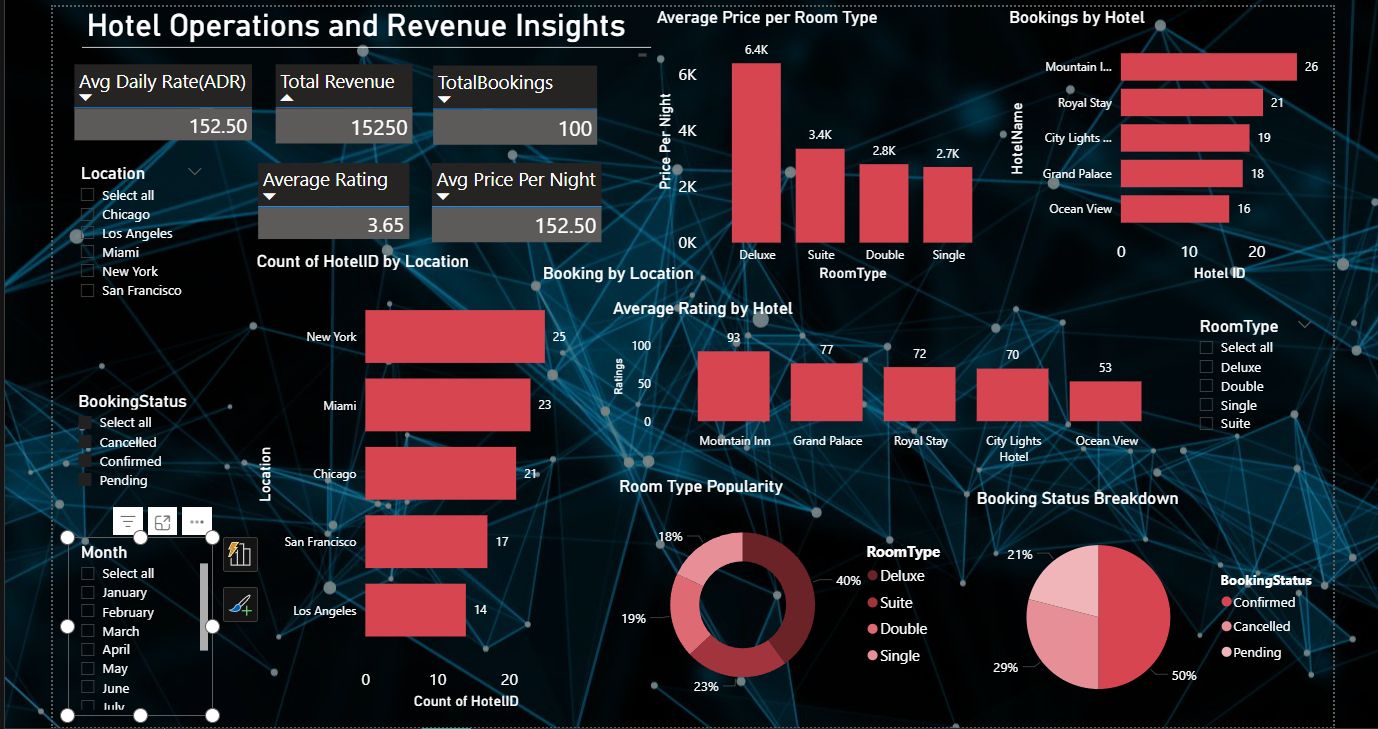

Layout of this report page (visuals, bound fields, positions):
{"tool":"powerbi","page":{"name":"Hotel Performance Dashboard","canvas":[1280,720],"ordinal":0},"visuals":[{"type":"tableEx","fields":{"Values":["hotel_data(1).Avg Daily Rate(ADR)"]},"box":[15.3,52.9,215.7,111.3],"z":0},{"type":"tableEx","fields":{"Values":["hotel_data(1).Total Revenue"]},"box":[215.7,52.9,157.2,98.8],"z":1000},{"type":"tableEx","fields":{"Values":["hotel_data(1).TotalBookings"]},"box":[373.2,53.5,181.6,98.3],"z":2000},{"type":"textbox","title":"Hotel Operations and Revenue Insights","box":[28.6,0,569.7,53.5],"z":3000},{"type":"slicer","fields":{"Values":["hotel_data(1).RoomType"]},"box":[1133.2,303.5,138.1,185.3],"z":4000},{"type":"slicer","fields":{"Values":["hotel_data(1).BookingStatus"]},"box":[12.5,378.4,148.9,151.7],"z":5000},{"type":"slicer","fields":{"Values":["hotel_data(1).CheckInDate.Variation.Date Hierarchy.Month"]},"box":[15.3,530.1,144.7,178.1],"z":6000},{"type":"tableEx","fields":{"Values":["hotel_data(1).Avg Price Per Night"]},"box":[372.9,151.7,211.5,91.8],"z":7000},{"type":"tableEx","fields":{"Values":["hotel_data(1).Average Rating"]},"box":[199,151.7,173.9,111.3],"z":8000},{"type":"clusteredBarChart","title":"Bookings by Hotel","fields":{"Category":["hotel_data(1).HotelName"],"Y":["CountNonNull(hotel_data(1).HotelID)"]},"box":[951.6,0,328.4,279.9],"z":9000},{"type":"barChart","title":"Booking by Location","fields":{"Category":["hotel_data(1).Location"]},"box":[485.1,256.3,199,464],"z":10000},{"type":"donutChart","title":"Room Type Popularity","fields":{"Category":["hotel_data(1).RoomType"],"Y":["CountNonNull(hotel_data(1).HotelID)"]},"box":[560.7,468.9,349.2,239.3],"z":11000},{"type":"clusteredColumnChart","title":"Average Price per Room Type","fields":{"Category":["hotel_data(1).RoomType"],"Y":["Sum(hotel_data(1).PricePerNight)"]},"box":[598.3,0,353.4,279.7],"z":12000},{"type":"pieChart","title":"Booking Status Breakdown","fields":{"Category":["hotel_data(1).BookingStatus"],"Y":["CountNonNull(hotel_data(1).HotelID)"]},"box":[919.3,481.4,360.7,238.8],"z":13000},{"type":"columnChart","title":"Average Rating by Hotel","fields":{"Category":["hotel_data(1).HotelName"],"Y":["Sum(hotel_data(1).Rating)"]},"box":[554.8,291.1,578.4,174.2],"z":14000},{"type":"slicer","fields":{"Values":["hotel_data(1).Location"]},"box":[14.9,151.8,146.8,209],"z":15000},{"type":"barChart","fields":{"Category":["hotel_data(1).Location"],"Y":["CountNonNull(hotel_data(1).HotelID)"]},"box":[199,243.8,329.6,464],"z":15001}]}

Visuals, with their boxes on the page's 1280x720 design canvas (x1, y1, x2, y2). These are canvas units, not pixel positions in the 1378x729 screenshot, which may show the page scaled, cropped or inside an application window:
tableEx - hotel_data(1).Avg Daily Rate(ADR): {"left": 15, "top": 53, "right": 231, "bottom": 164}
tableEx - hotel_data(1).Total Revenue: {"left": 216, "top": 53, "right": 373, "bottom": 152}
tableEx - hotel_data(1).TotalBookings: {"left": 373, "top": 54, "right": 555, "bottom": 152}
"Hotel Operations and Revenue Insights" textbox: {"left": 29, "top": 0, "right": 598, "bottom": 54}
slicer - hotel_data(1).RoomType: {"left": 1133, "top": 304, "right": 1271, "bottom": 489}
slicer - hotel_data(1).BookingStatus: {"left": 12, "top": 378, "right": 161, "bottom": 530}
slicer - hotel_data(1).CheckInDate.Variation.Date Hierarchy.Month: {"left": 15, "top": 530, "right": 160, "bottom": 708}
tableEx - hotel_data(1).Avg Price Per Night: {"left": 373, "top": 152, "right": 584, "bottom": 244}
tableEx - hotel_data(1).Average Rating: {"left": 199, "top": 152, "right": 373, "bottom": 263}
"Bookings by Hotel" clusteredBarChart: {"left": 952, "top": 0, "right": 1280, "bottom": 280}
"Booking by Location" barChart: {"left": 485, "top": 256, "right": 684, "bottom": 720}
"Room Type Popularity" donutChart: {"left": 561, "top": 469, "right": 910, "bottom": 708}
"Average Price per Room Type" clusteredColumnChart: {"left": 598, "top": 0, "right": 952, "bottom": 280}
"Booking Status Breakdown" pieChart: {"left": 919, "top": 481, "right": 1280, "bottom": 720}
"Average Rating by Hotel" columnChart: {"left": 555, "top": 291, "right": 1133, "bottom": 465}
slicer - hotel_data(1).Location: {"left": 15, "top": 152, "right": 162, "bottom": 361}
barChart - hotel_data(1).Location x CountNonNull(hotel_data(1).HotelID): {"left": 199, "top": 244, "right": 529, "bottom": 708}
